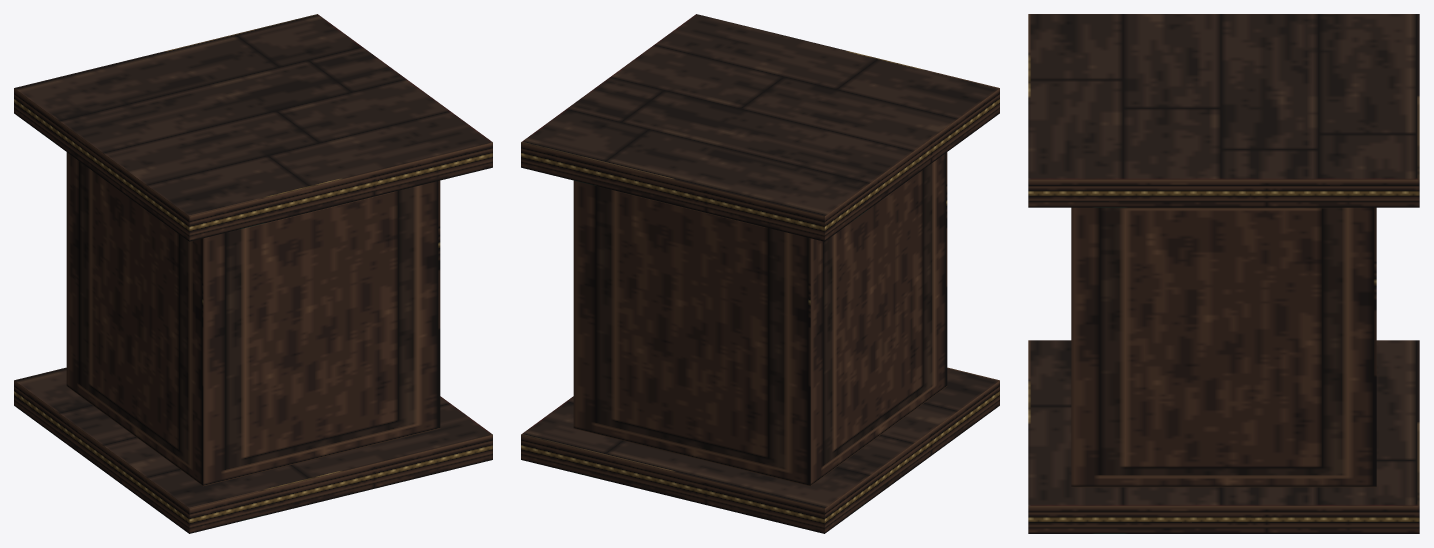
The model's file is Story_Pedestal.fbx.
3 views of the same model, side by side, from view 1: azimuth 30°, elevation 25°; view 2: azimuth 150°, elevation 25°; view 3: azimuth 270°, elevation 25° (orthographic). The views are drawn at different scales.
Visible parts, largest first — view 1: Story_Pedestal; view 2: Story_Pedestal; view 3: Story_Pedestal.
Part boxes in pixels (bbox=[...]): Story_Pedestal: bbox=[14, 14, 492, 533]; Story_Pedestal: bbox=[521, 14, 999, 533]; Story_Pedestal: bbox=[1028, 14, 1419, 533].
Bounding box in the file's own units: 1 × 1 × 1.
